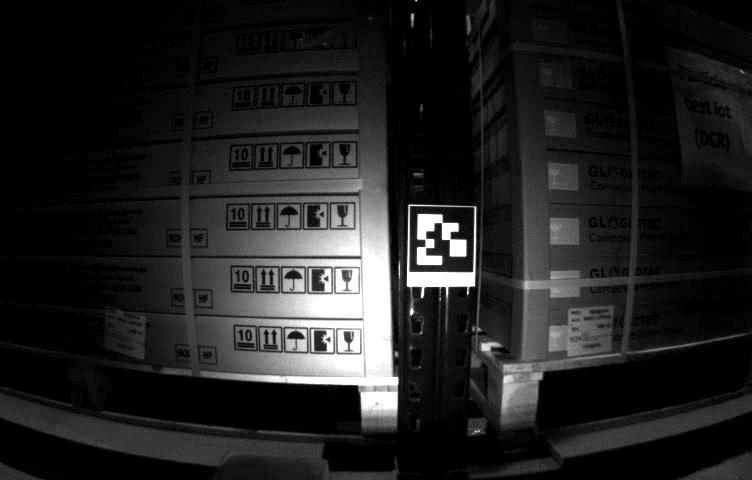True Barcode: (562, 303, 615, 356), (101, 304, 145, 359)
